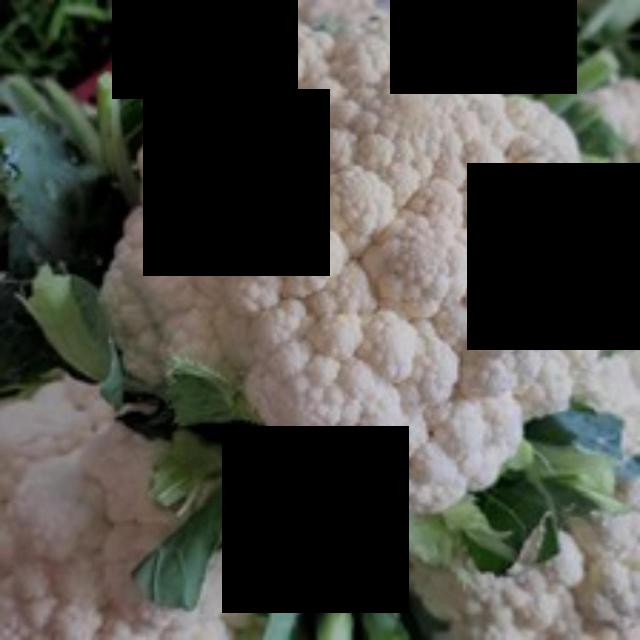cauliflower: (94, 0, 623, 531)
